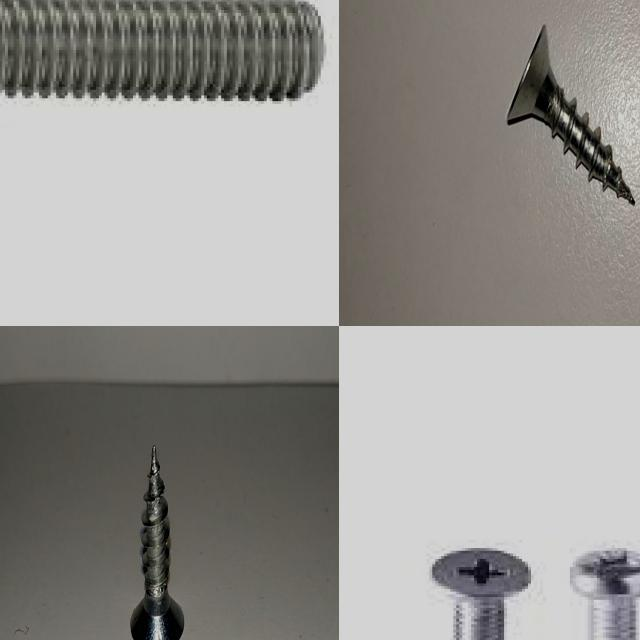Screw: (0, 0, 326, 104), (506, 24, 635, 204), (130, 444, 184, 640), (429, 548, 534, 640), (567, 548, 640, 640)
